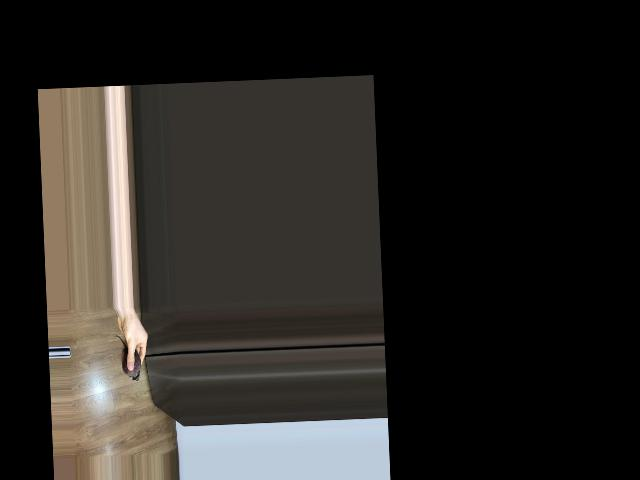beet: (114, 335, 141, 382)
